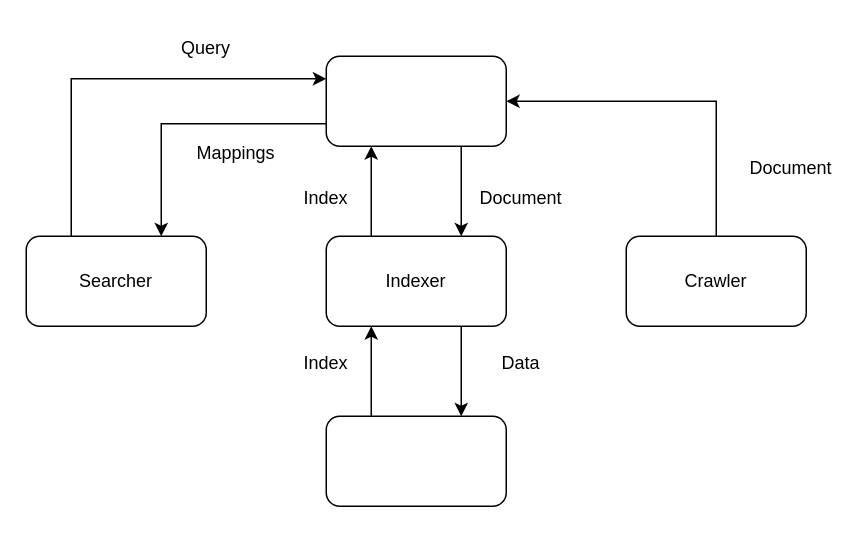
Some shapes in this 863 by 533 pixel diagram are drawn without their labels. Here are the shapes that lost their labels. From the top down, the box of each, then its label:
(325, 55, 506, 146): Distributed storage
(325, 415, 506, 506): MapReduce
